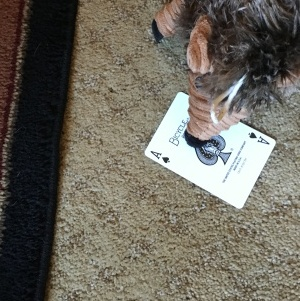card: (143, 92, 276, 209)
